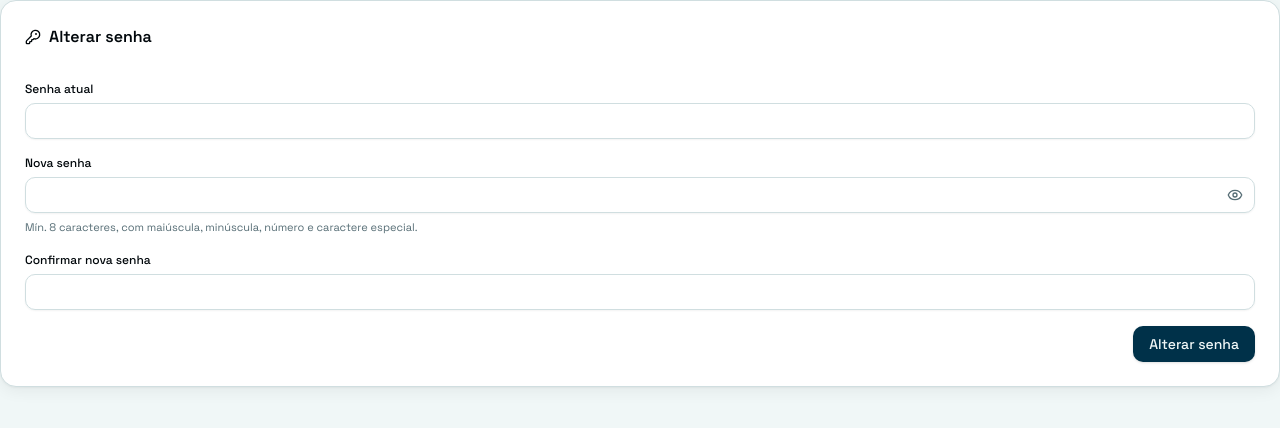
Test: ChangePasswordCard › blocks submission client-side when confirmation doesn't match
This screenshot has width=1280, height=428.
Type "Old@Pass123" into the password field labelled "Senha atual" at (640, 121), box [25,103,1255,139]
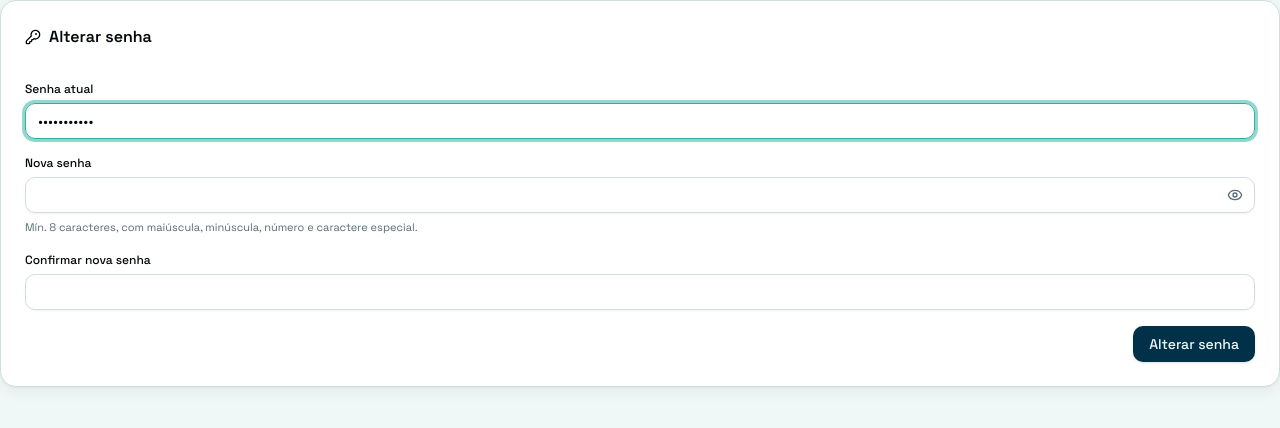
Type "N3w@Str0ngPass" into the password field labelled "Nova senha" at (640, 195), box [25,177,1255,213]
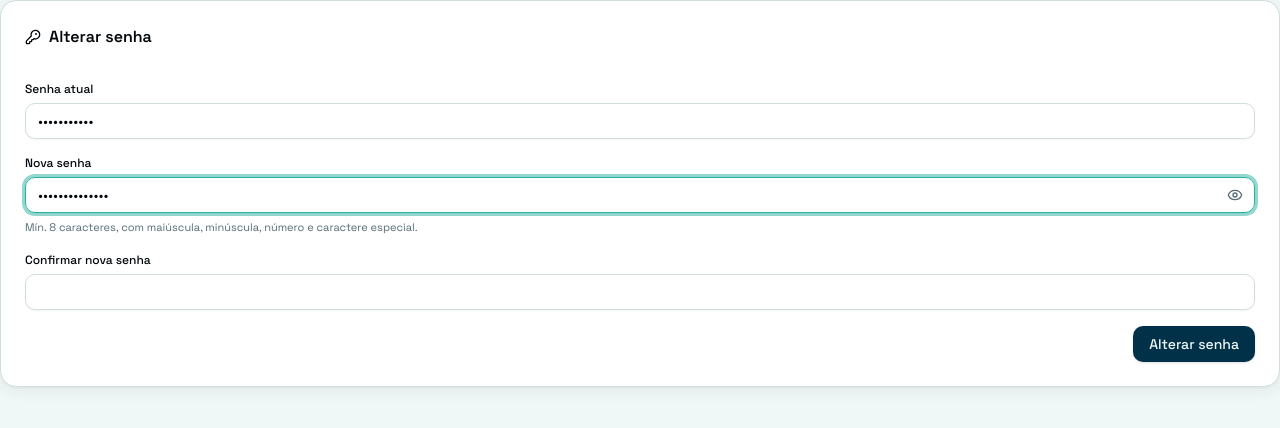
Type "Different@123" into the password field labelled "Confirmar nova senha" at (640, 292), box [25,274,1255,310]
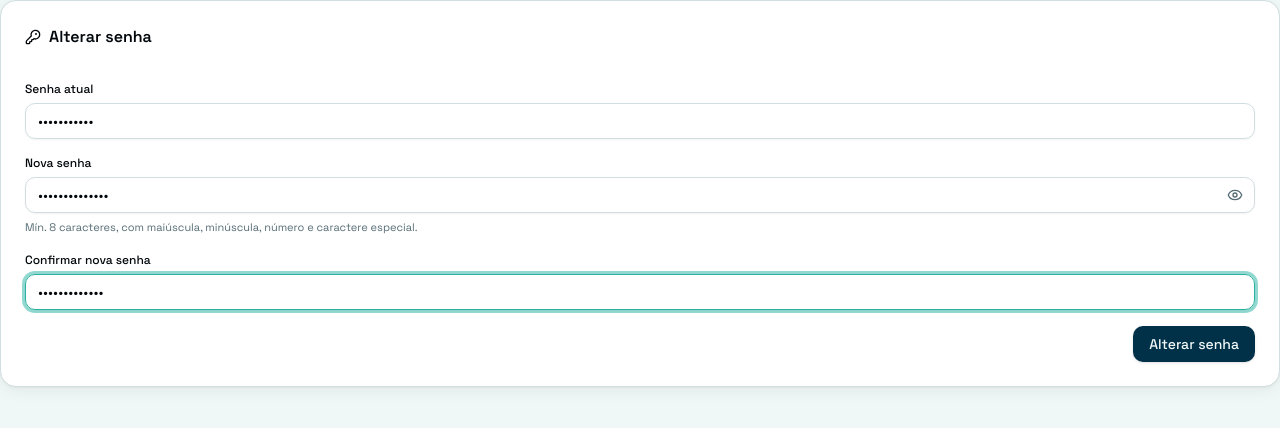
Click the button "Alterar senha" at (1194, 344), box [1133,326,1255,362]
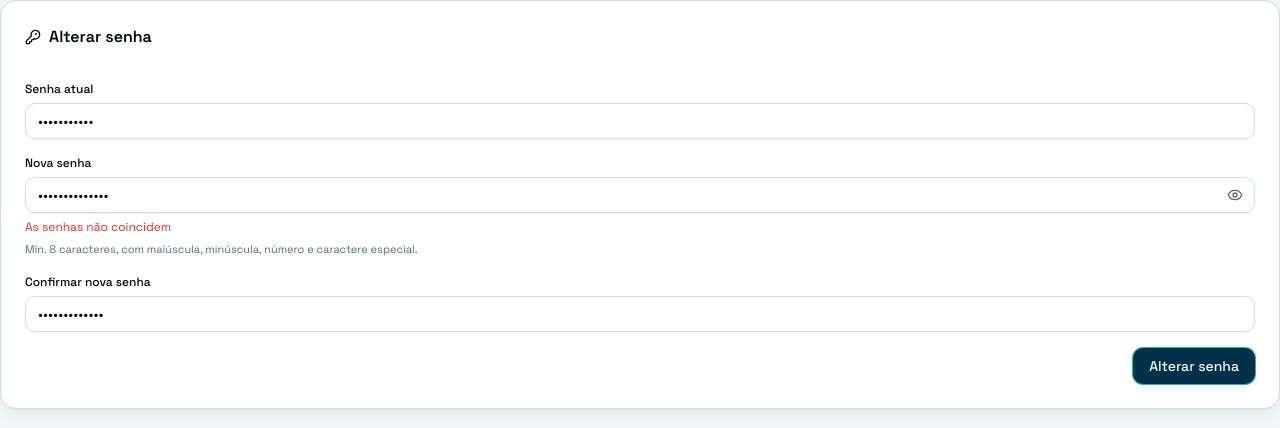
Expected: the text "As senhas não coincidem" is shown, [25,219,171,235]
